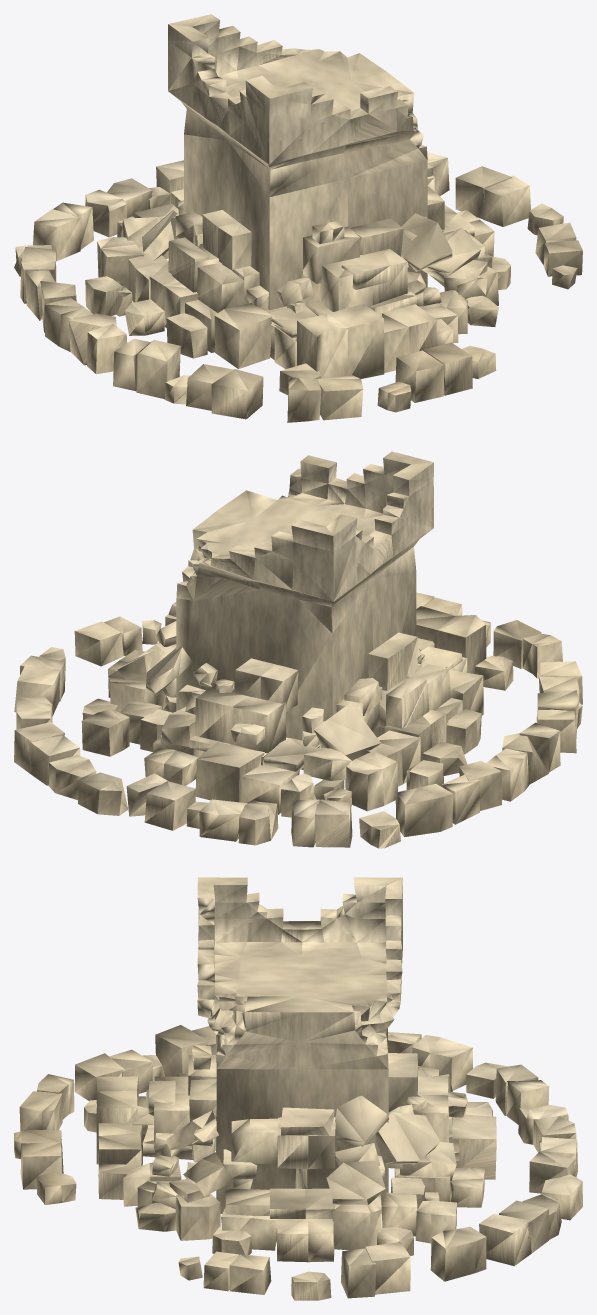
3 views of the same model, one above another, from view 1: azimuth 30°, elevation 25°; view 2: azimuth 150°, elevation 25°; view 3: azimuth 270°, elevation 25° (orthographic). The views are drawn at different scales.
Parts seen in each view (by area): view 1: castle_d4.6; view 2: castle_d4.6; view 3: castle_d4.6.
Part boxes in pixels (bbox=[...]): castle_d4.6: bbox=[14, 14, 582, 422]; castle_d4.6: bbox=[14, 451, 582, 848]; castle_d4.6: bbox=[14, 877, 582, 1300].
Size of the model in its own units: 2.9 by 1.44 by 2.89.
Materials: 1 (1 with a texture image).
